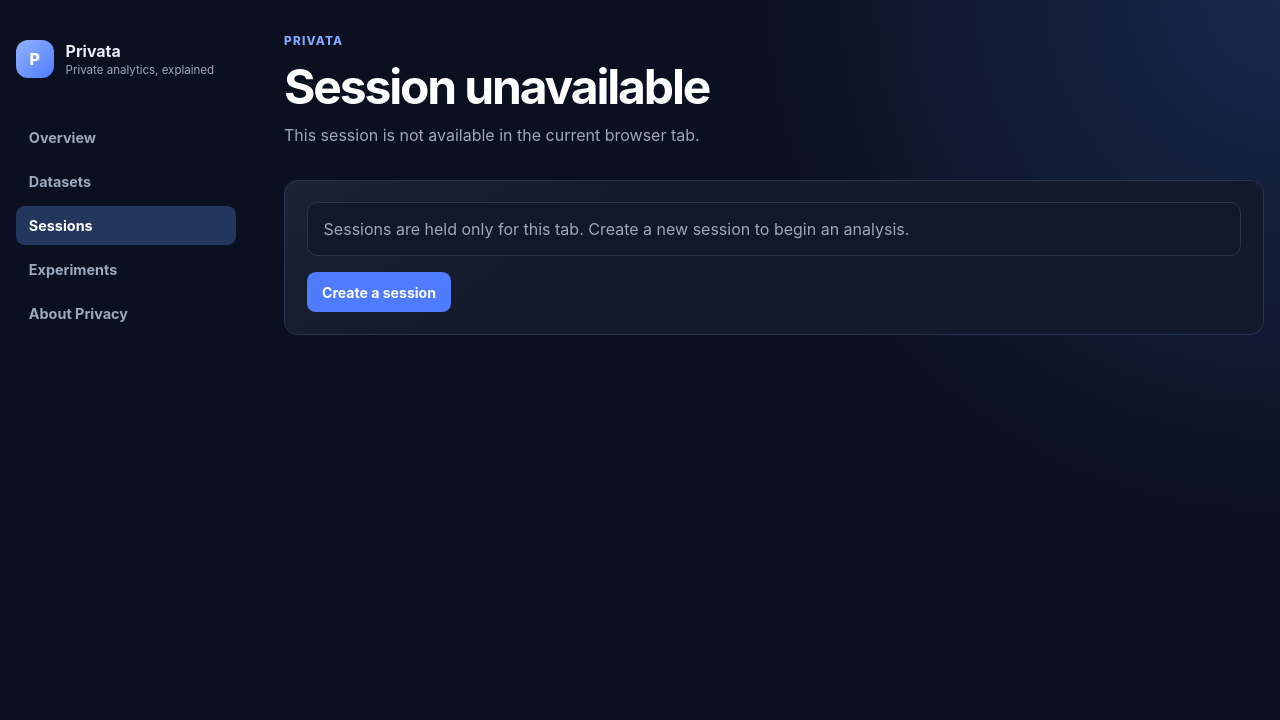
Test: Privata frontend › explains when a direct session route is unavailable in this tab
expect the heading "Session unavailable" is shown: met, box [284, 57, 709, 116]
expect the text "Sessions are held only for this tab. Create a new session to begin an analysis." is shown: met, box [307, 202, 1241, 256]
Click the button "Create a session": (379, 292) [307, 272, 451, 312]
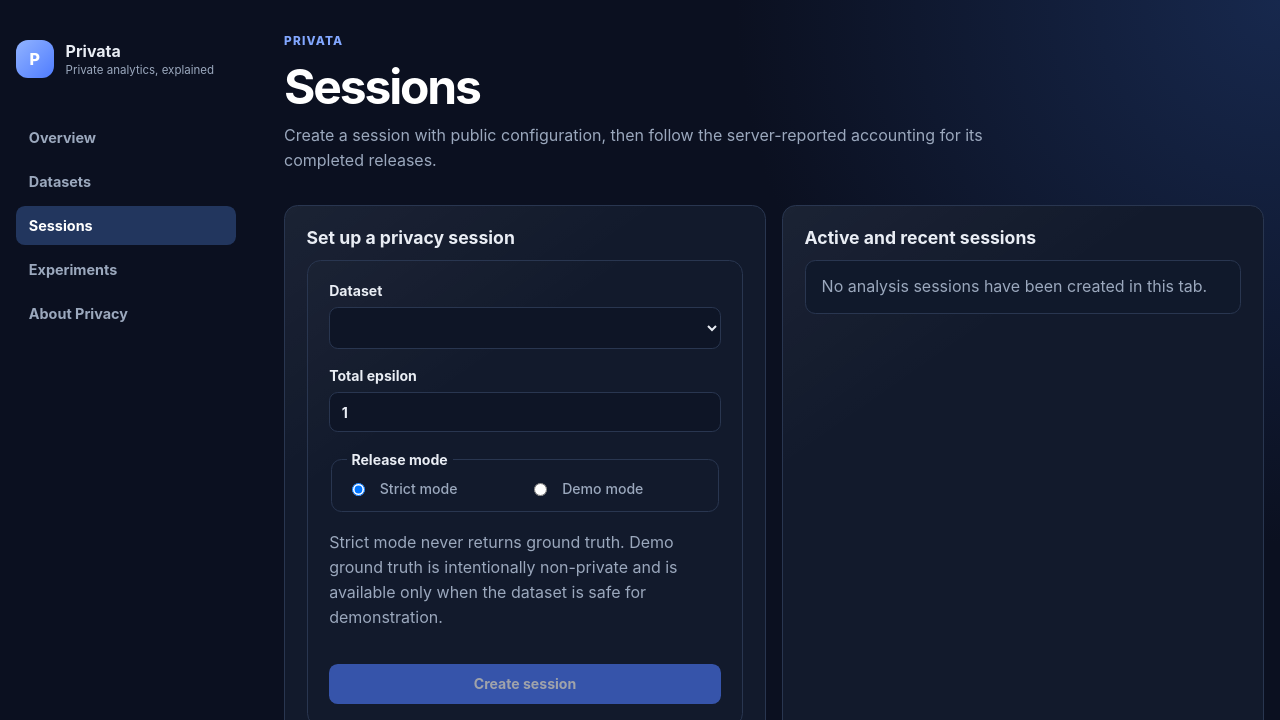
expect the heading "Sessions" is shown: met, box [284, 57, 480, 116]
